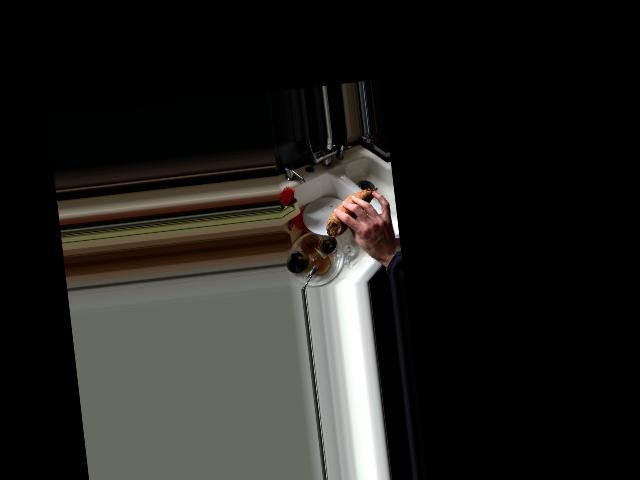sweet_potato: (324, 187, 383, 236)
